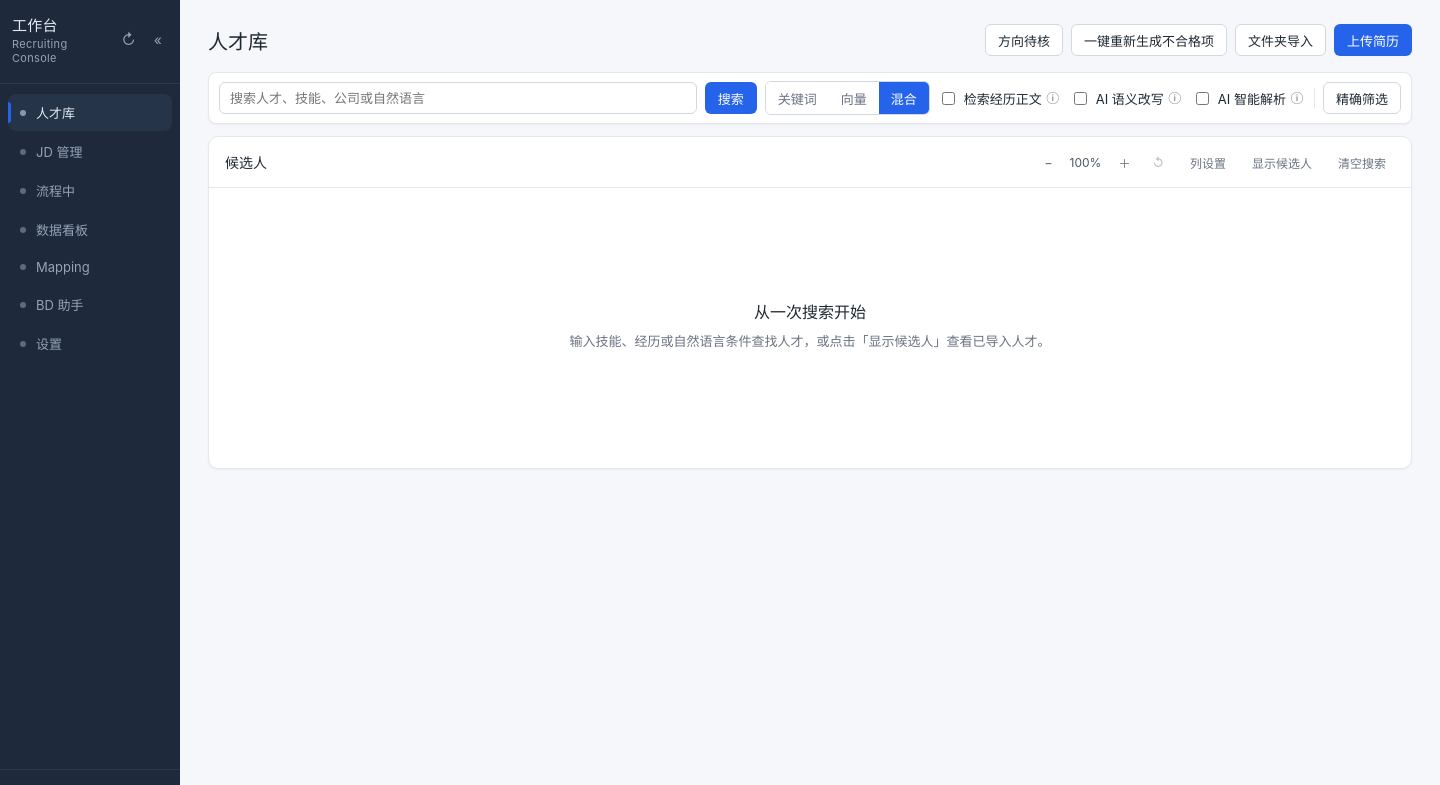
Test: recruitment consistency through the App › uses the newest effective result and restores actions after that result is voided
Click the button "流程中" at (90, 190), box [8,172,172,209]
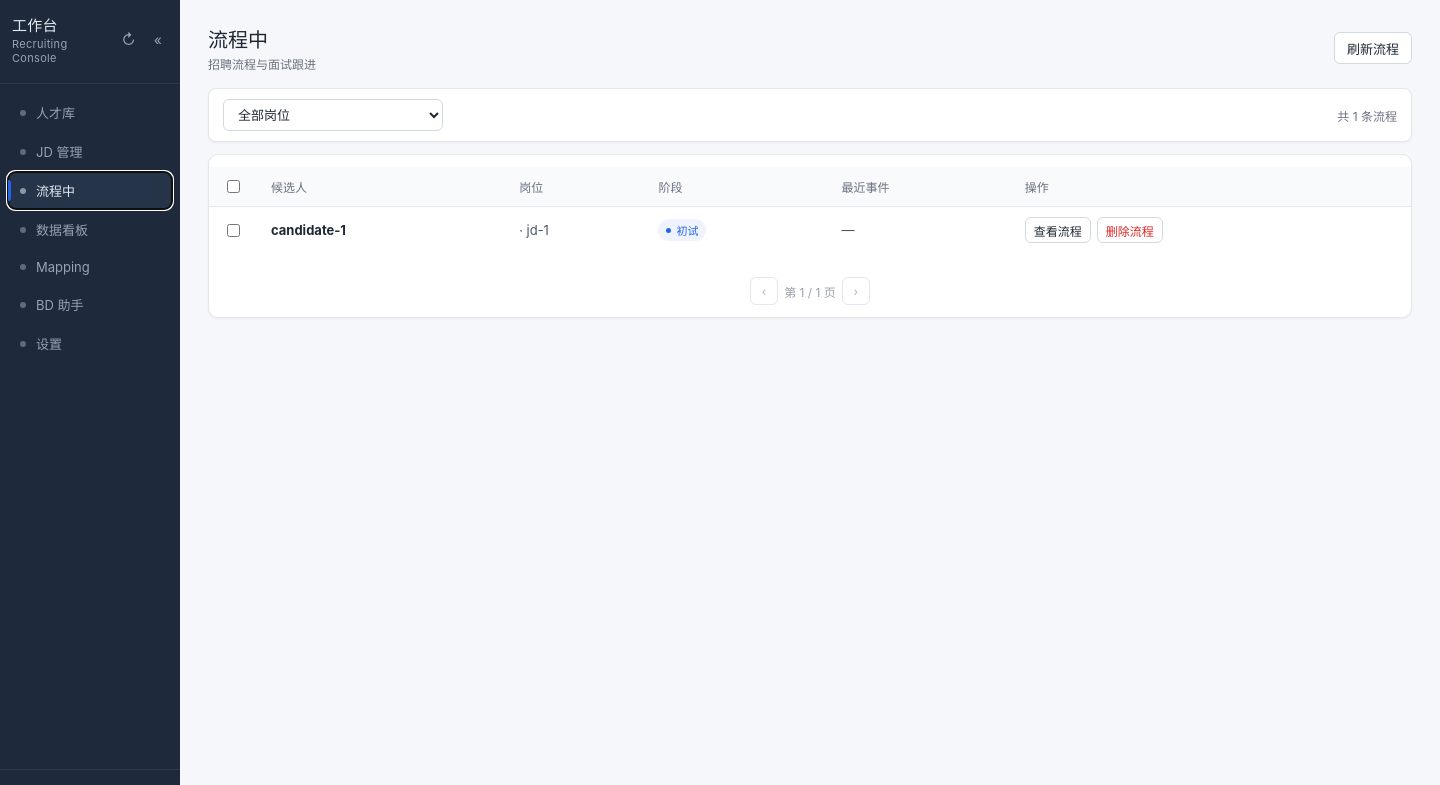
Click the button "查看流程" at (1058, 230), box [1025,217,1091,243]
(page scrolled)
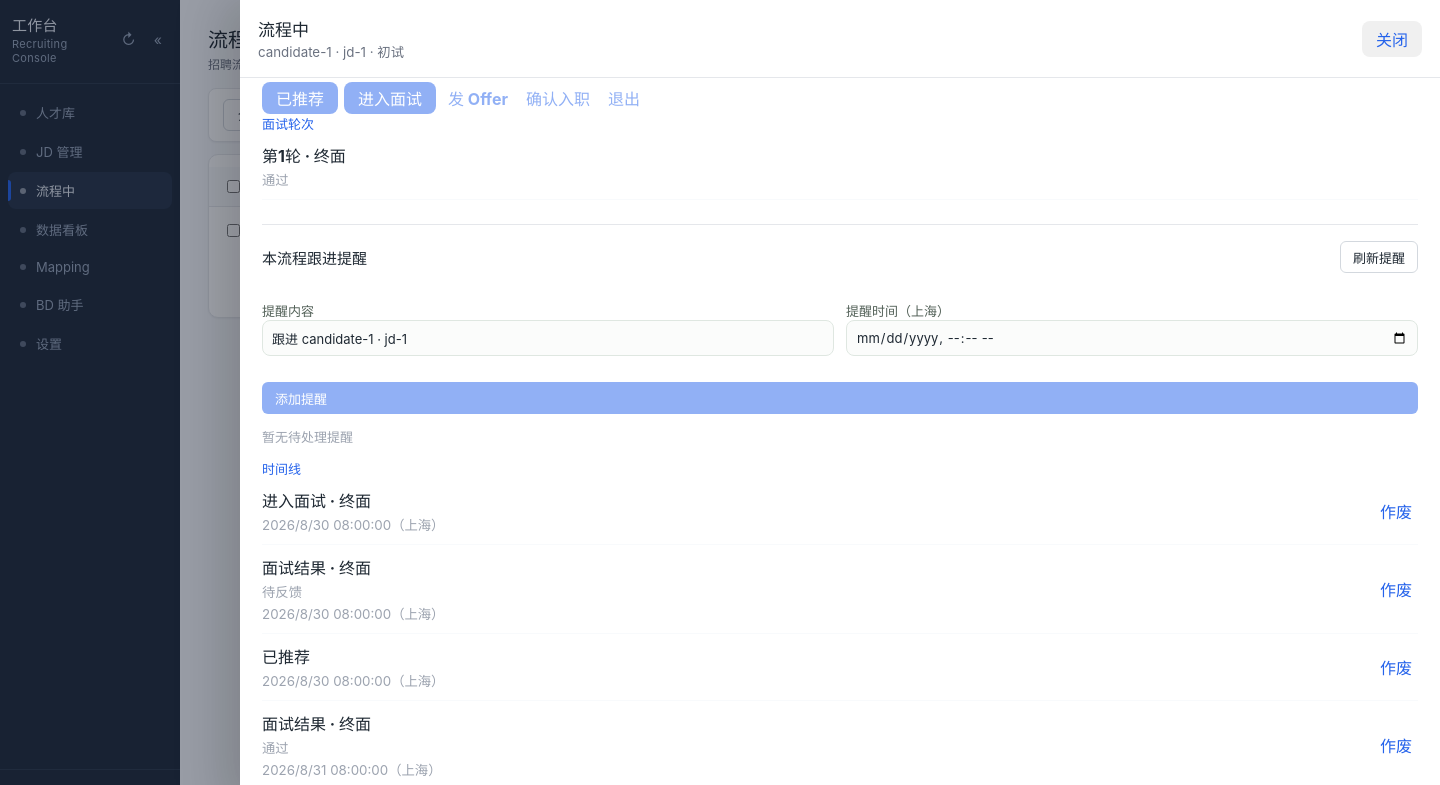
Expected: the button "通过（结束面试）" is not shown
Now the text named "第1轮当前结果" reads "通过", box [262,172,289,188]
Click the button with aria-label "作废面试结果 passed" at (1396, 745), box [1374,732,1418,758]
(page scrolled)
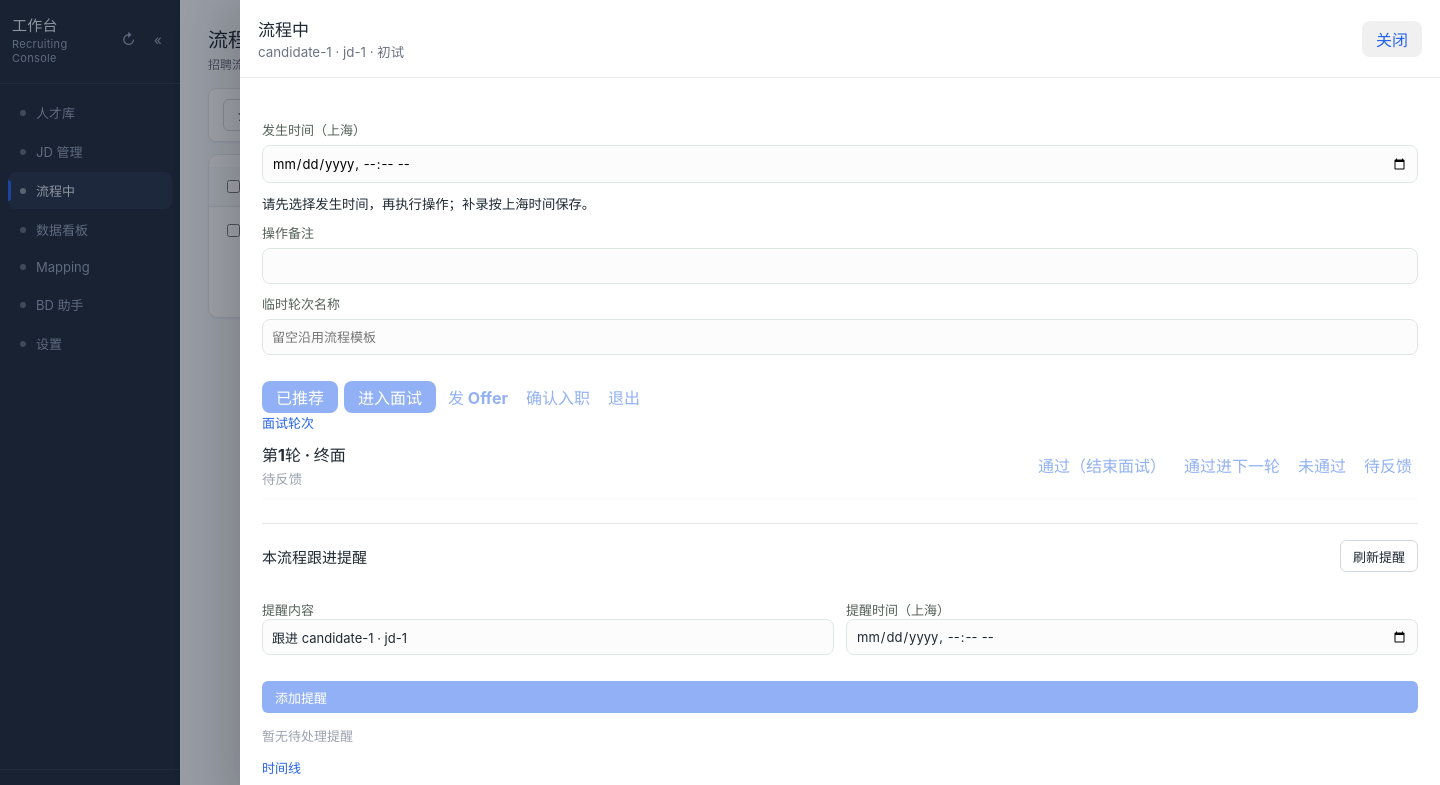
Type "2026-08-30T15:30" into the field labelled "发生时间（上海）" at (840, 164), box [262,145,1418,183]
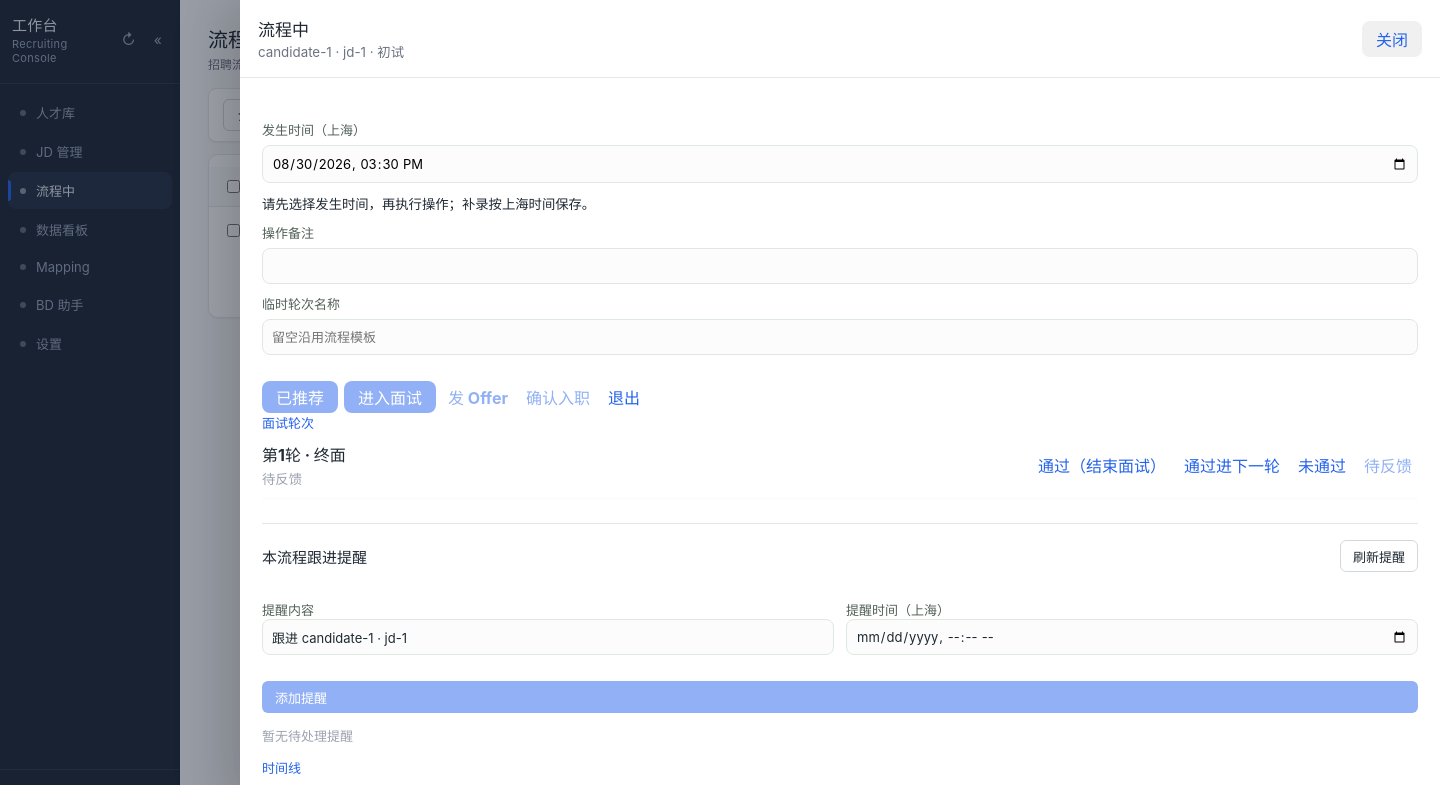
Now the text named "第1轮当前结果" reads "待反馈", box [262,471,302,487]
Now the button "通过（结束面试）" is enabled, box [1032,452,1172,478]
